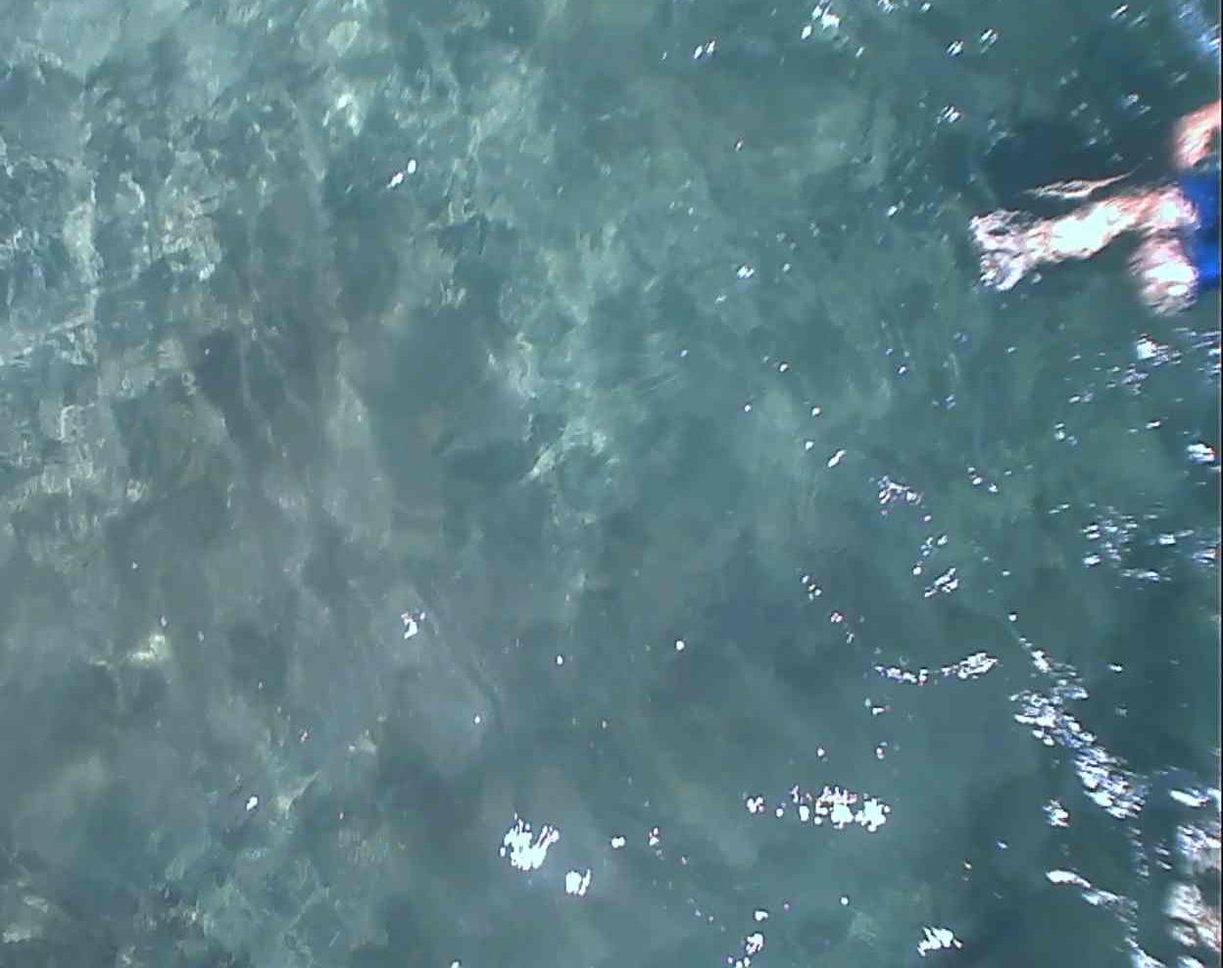swimmer: (950, 76, 1206, 383)
